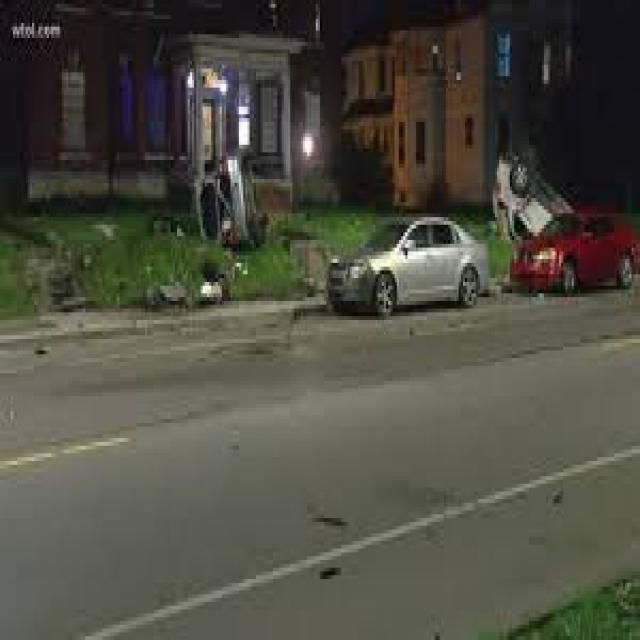accident: (479, 152, 583, 258), (188, 131, 272, 251)
